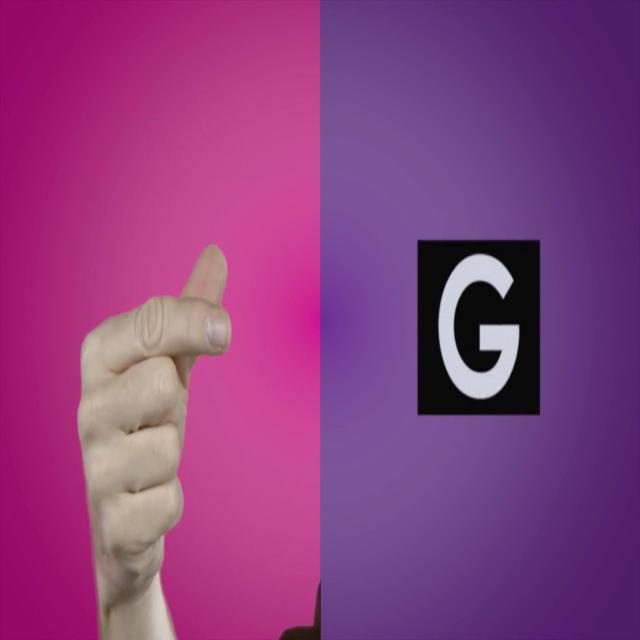G: (51, 181, 270, 634)
